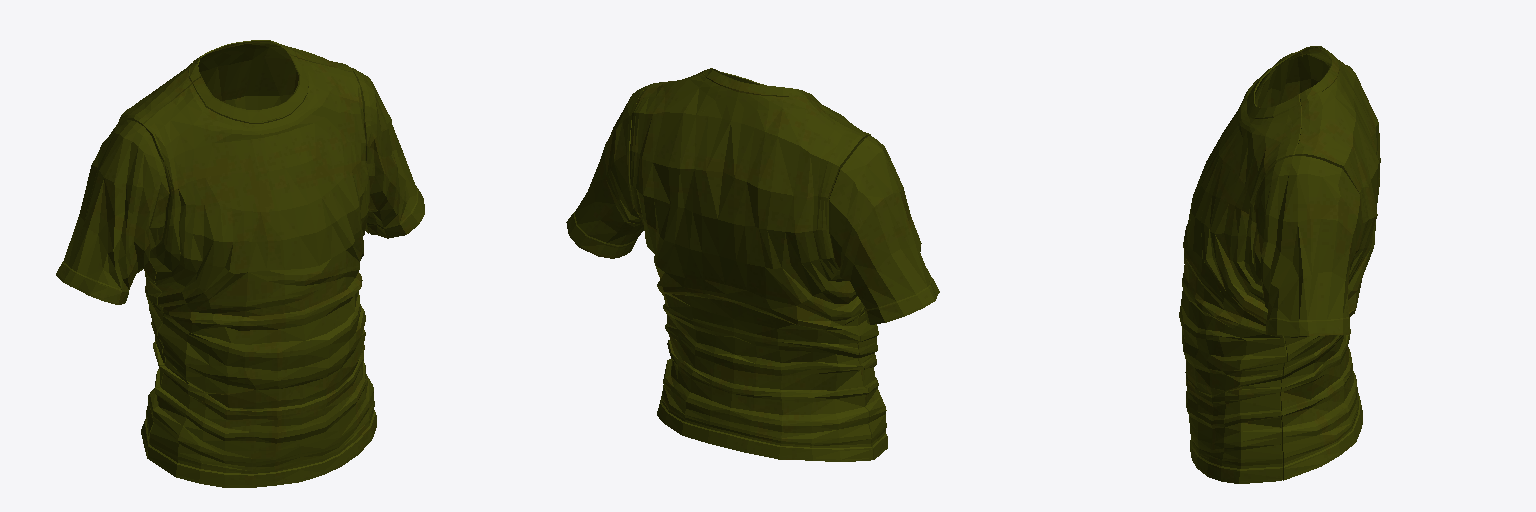
The picture shows the model from 3 angles: view 1: azimuth 30°, elevation 25°; view 2: azimuth 150°, elevation 25°; view 3: azimuth 270°, elevation 25°; orthographic projection.
Bounding box in the file's own units: 17.39 × 17.87 × 8.43.
1 materials, 1 textured.